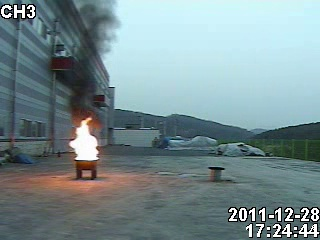fire: (67, 115, 97, 160)
